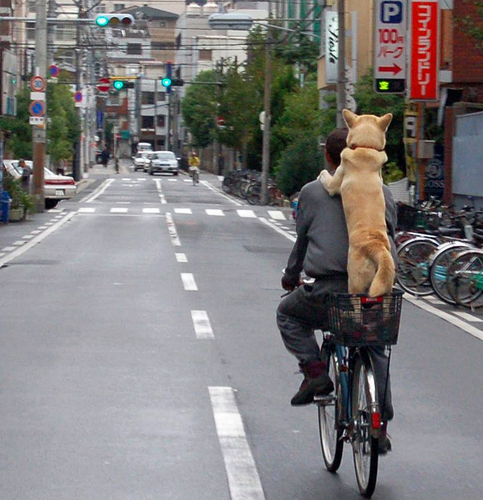bikerider: (255, 93, 423, 495)
